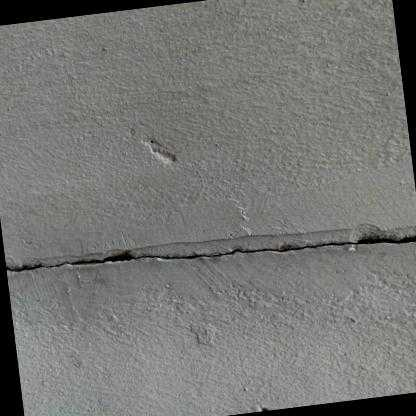crack: (5, 235, 416, 272)
